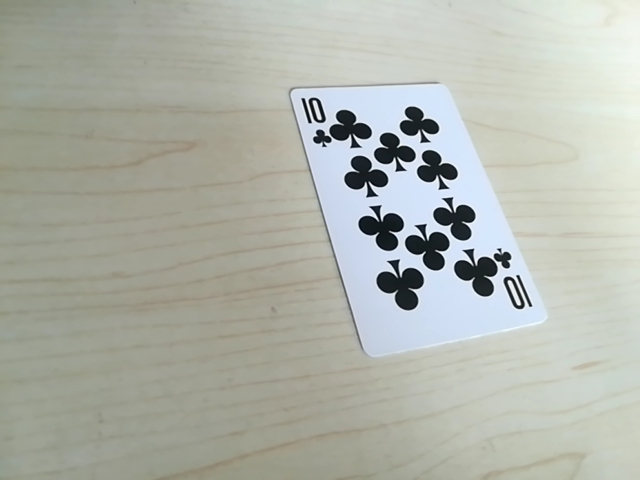mh 10: (493, 257, 535, 315), (293, 96, 333, 146)
